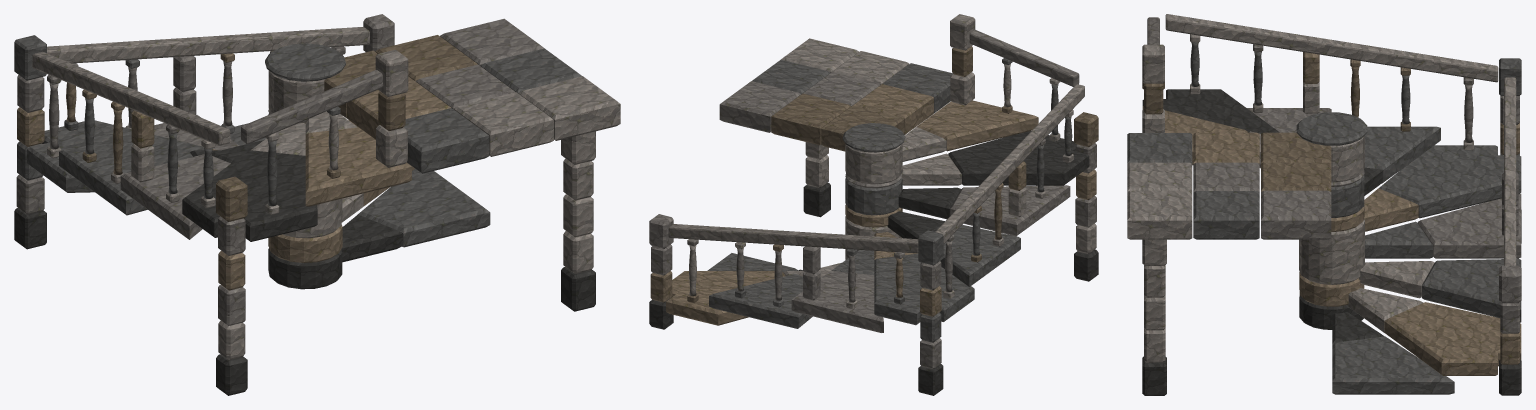
The model's file is stairs_spiral_stacked__cut_stone.glb.
3 views of the same model, side by side, from view 1: azimuth 30°, elevation 25°; view 2: azimuth 150°, elevation 25°; view 3: azimuth 270°, elevation 25° (orthographic). The views are drawn at different scales.
Parts seen in each view (by area): view 1: model; view 2: model; view 3: model.
Boxes of the visible parts, x1,y1,x2,y2 form: model: (14, 14, 620, 395); model: (649, 14, 1098, 395); model: (1127, 14, 1521, 395).
Size of the model in its own units: 3.83 by 2.81 by 3.83.
6 materials, 6 textured.
